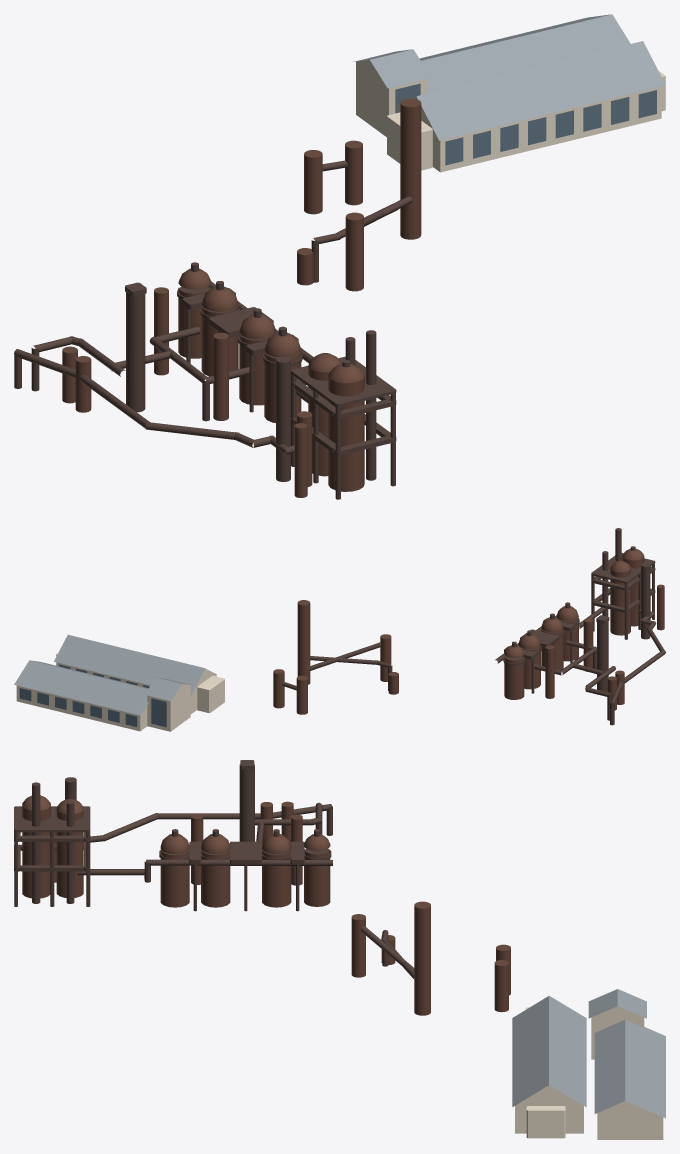
The model's file is detail.glb.
3 views of the same model, one above another, from view 1: azimuth 30°, elevation 25°; view 2: azimuth 150°, elevation 25°; view 3: azimuth 270°, elevation 25° (orthographic). The views are drawn at different scales.
Visible parts, largest first — view 1: gas-works-park; view 2: gas-works-park; view 3: gas-works-park.
Boxes of the visible parts, left/top/right/bottom form: gas-works-park: left=14, top=14, right=665, bottom=499; gas-works-park: left=14, top=528, right=665, bottom=731; gas-works-park: left=14, top=760, right=665, bottom=1139.
Bounding box in the file's own units: 168 × 30 × 150.
